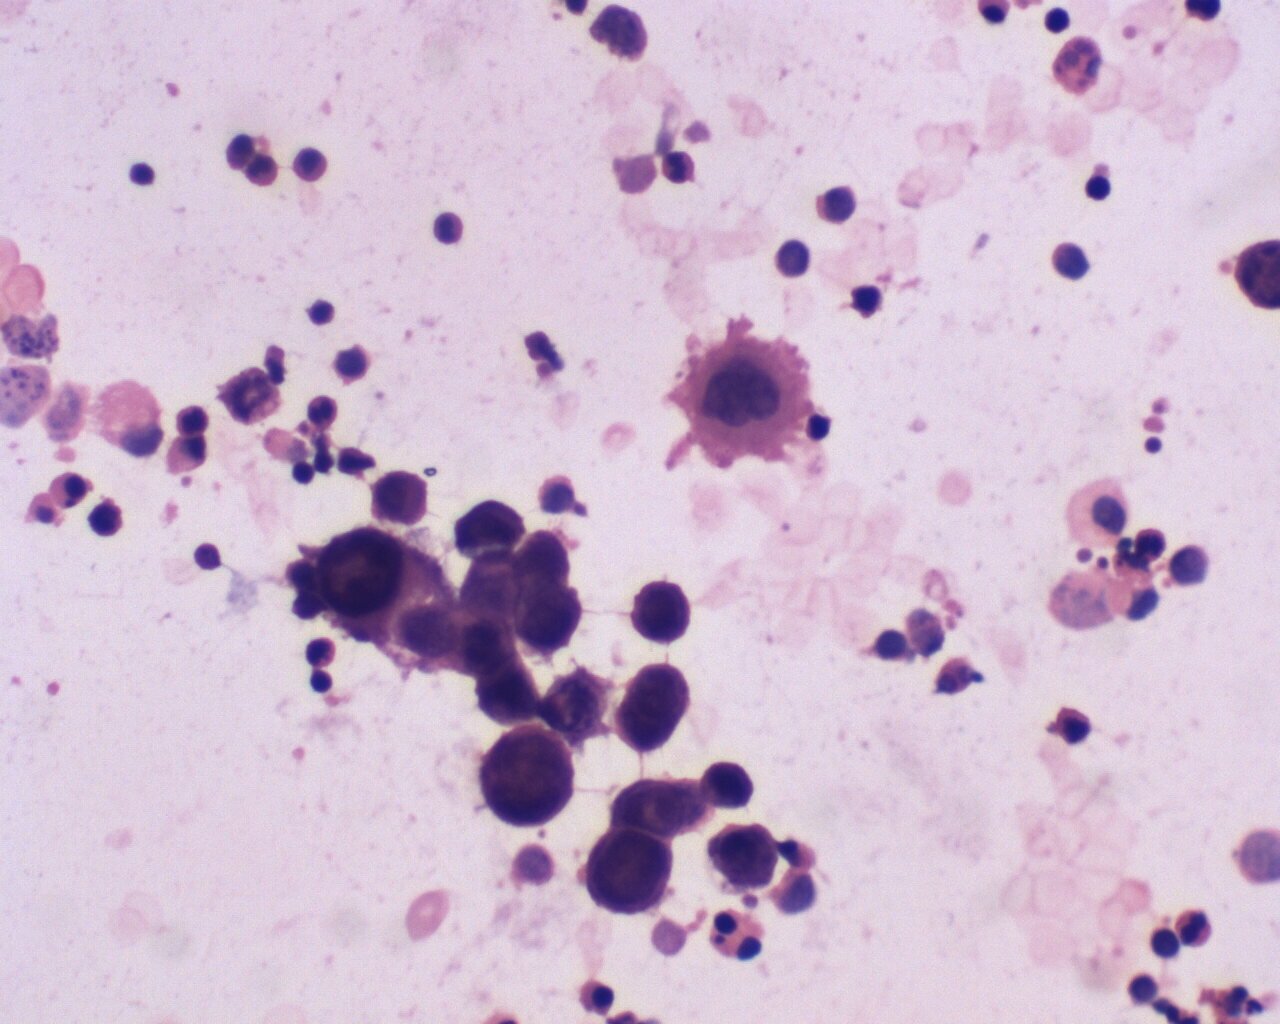ab: (476, 722, 579, 831), (315, 527, 409, 627), (578, 824, 670, 916), (611, 659, 696, 759), (703, 817, 779, 891), (629, 578, 701, 646), (517, 580, 583, 653), (700, 753, 758, 813)
lymph: (1079, 166, 1112, 205), (127, 159, 156, 197), (306, 664, 339, 697)
neutro: (1174, 904, 1214, 949), (654, 152, 695, 194), (305, 395, 342, 430)
